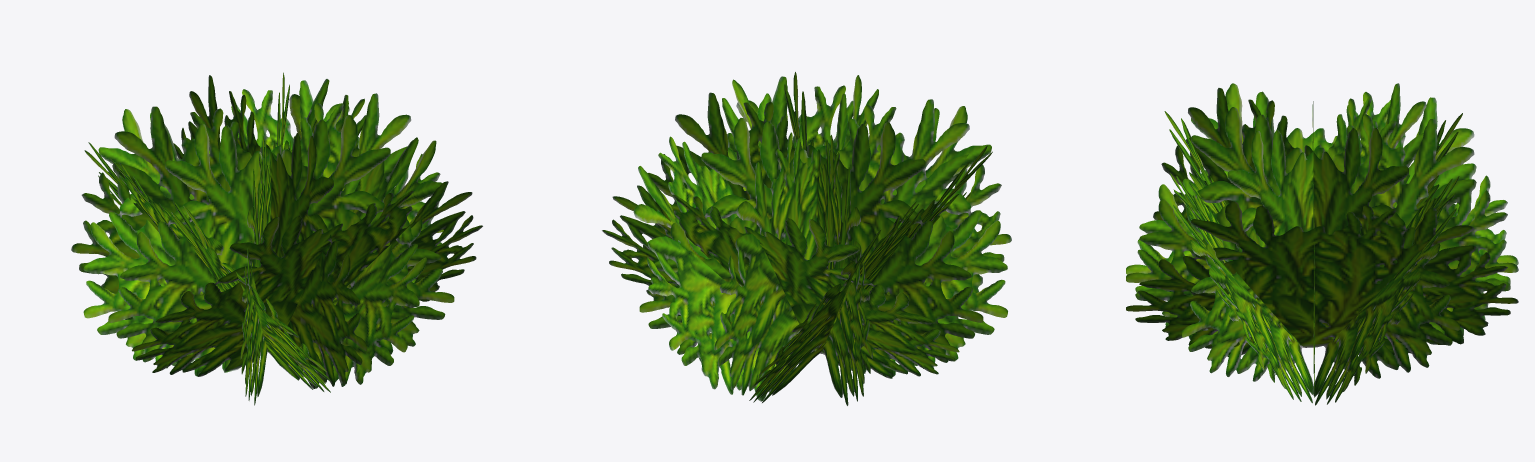
The model's file is Bush02_Dream.glb.
3 views of the same model, side by side, from view 1: azimuth 30°, elevation 25°; view 2: azimuth 150°, elevation 25°; view 3: azimuth 270°, elevation 25° (orthographic).
Visible parts, largest first — view 1: Bush02_dream; view 2: Bush02_dream; view 3: Bush02_dream.
Boxes of the visible parts, <box> form: Bush02_dream: <box>71,72,482,405</box>; Bush02_dream: <box>602,72,1011,405</box>; Bush02_dream: <box>1126,83,1518,405</box>.
Size of the model in its own units: 0.8335 by 0.5747 by 0.8335.
Materials: 1 (1 with a texture image).
